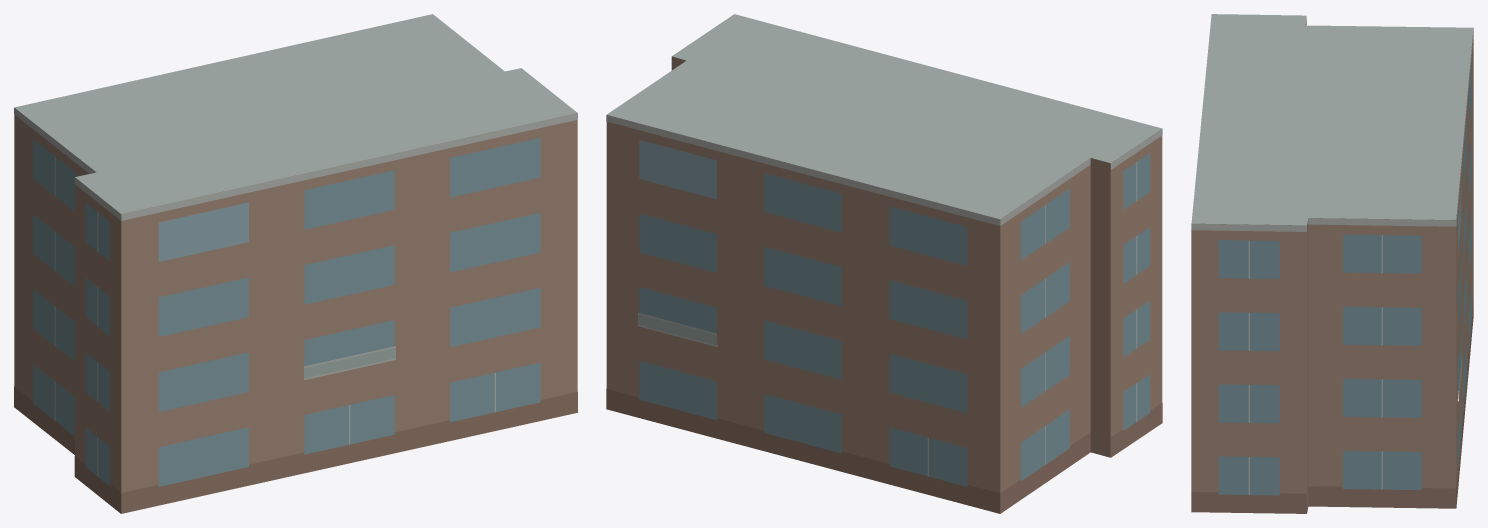
File: survey-upis-32669485.glb
3 views of the same model, side by side, from view 1: azimuth 30°, elevation 25°; view 2: azimuth 150°, elevation 25°; view 3: azimuth 270°, elevation 25° (orthographic). The views are drawn at different scales.
Visible parts, largest first — view 1: survey-upis-32669485.tmp; view 2: survey-upis-32669485.tmp; view 3: survey-upis-32669485.tmp.
Boxes of the visible parts, x1=… form: survey-upis-32669485.tmp: x1=14, y1=14, x2=577, y2=513; survey-upis-32669485.tmp: x1=606, y1=14, x2=1162, y2=513; survey-upis-32669485.tmp: x1=1191, y1=14, x2=1473, y2=513.
Bounding box in the file's own units: 16.66 × 10.6 × 9.4.
